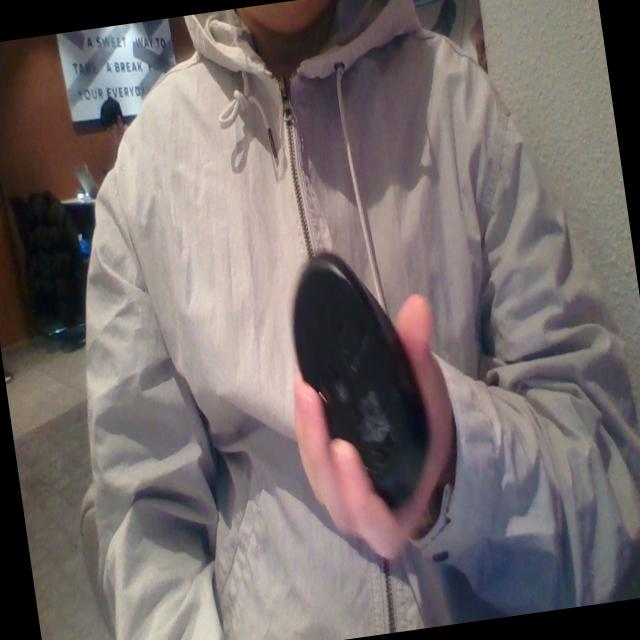grab_mouse: (270, 225, 447, 551)
mouse: (297, 225, 416, 490)
